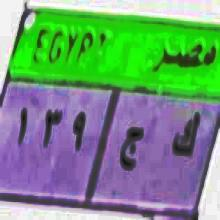1: (16, 100, 30, 149)
3: (41, 108, 62, 156)
9: (71, 107, 86, 153)
jeem: (119, 121, 143, 180)
kaaf: (169, 102, 201, 165)
